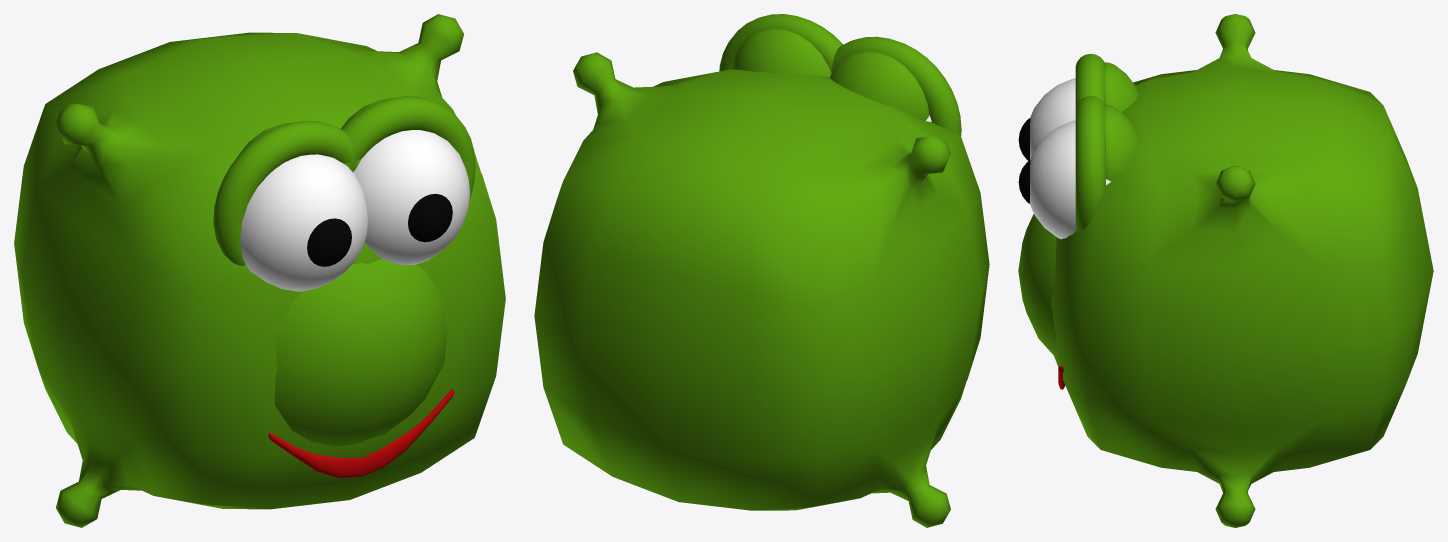
File: allien 2 01.fbx
The picture shows the model from 3 angles, left to right: view 1: azimuth 30°, elevation 25°; view 2: azimuth 150°, elevation 25°; view 3: azimuth 270°, elevation 25°; orthographic projection. The views are drawn at different scales.
Parts seen in each view (by area): view 1: Alien_Box, Sphere_6, Sphere, Sphere_1, Torus, Torus_1, Capsule, Sphere_4, Sphere_5; view 2: Alien_Box, Sphere_3, Torus, Sphere_2, Torus_1; view 3: Alien_Box, Sphere_1, Sphere_6, Torus_1, Sphere, Sphere_2, Torus, Sphere_3.
Part boxes in pixels (box(x1,y1,x2,y2)): Alien_Box: box(14, 14, 505, 527); Sphere_6: box(274, 259, 447, 446); Sphere: box(240, 154, 368, 291); Sphere_1: box(353, 130, 470, 265); Torus: box(213, 121, 360, 265); Torus_1: box(341, 96, 475, 198); Capsule: box(268, 389, 454, 478); Sphere_4: box(307, 218, 351, 266); Sphere_5: box(408, 194, 452, 242); Alien_Box: box(534, 52, 989, 527); Sphere_3: box(830, 51, 929, 120); Torus: box(831, 36, 961, 135); Sphere_2: box(732, 28, 831, 76); Torus_1: box(719, 14, 842, 72); Alien_Box: box(1051, 14, 1433, 527); Sphere_1: box(1029, 120, 1110, 239); Sphere_6: box(1018, 214, 1057, 357); Torus_1: box(1075, 96, 1105, 232); Sphere: box(1030, 78, 1075, 159); Sphere_2: box(1104, 104, 1138, 181); Torus: box(1075, 53, 1105, 107); Sphere_3: box(1104, 62, 1138, 112).
Size of the model in its own units: 397 by 406 by 414.
